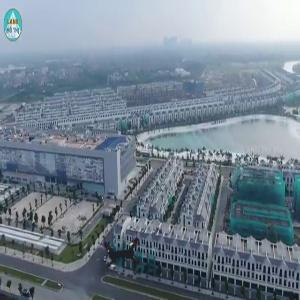drone: (75, 208, 167, 300)
